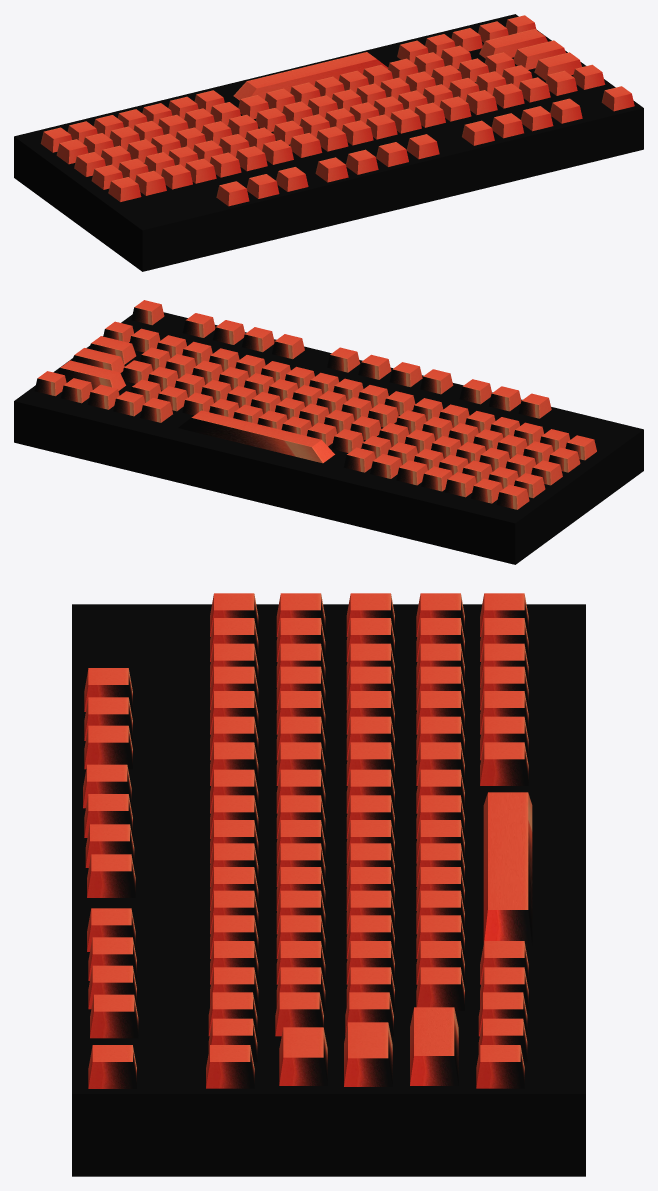
Rendered from Keyboard .fbx.
3 views of the same model, one above another, from view 1: azimuth 30°, elevation 25°; view 2: azimuth 150°, elevation 25°; view 3: azimuth 270°, elevation 25° (orthographic). The views are drawn at different scales.
Visible parts, largest first — view 1: Cube.017, Cube.127, Cube.126, Cube.125, Cube.050, Cube.026, Cube.023, Cube.019, Cube.024, Cube.048, Cube.018, Cube.021 (+86 smaller); view 2: Cube.017, Cube.127, Cube.126, Cube.125, Cube.050, Cube.019, Cube.023, Cube.018, Cube.022, Cube.025, Cube.110, Cube.021 (+86 smaller); view 3: Cube.017, Cube.127, Cube.126, Cube.125, Cube.050, Cube.019, Cube.018, Cube.030, Cube.106, Cube.118, Cube.023, Cube.090 (+86 smaller).
Part boxes in pixels (x1,y1,x2,y2): Cube.017: (14, 14, 643, 271); Cube.127: (233, 52, 388, 100); Cube.126: (479, 29, 547, 58); Cube.125: (513, 40, 565, 69); Cube.050: (534, 52, 581, 80); Cube.026: (315, 157, 348, 182); Cube.023: (406, 134, 439, 159); Cube.019: (550, 98, 582, 123); Cube.024: (376, 142, 408, 166); Cube.048: (108, 177, 141, 201); Cube.018: (601, 86, 634, 111); Cube.021: (491, 113, 523, 138); Cube.017: (14, 312, 643, 564); Cube.127: (178, 410, 334, 463); Cube.126: (57, 360, 125, 390); Cube.125: (72, 348, 124, 372); Cube.050: (89, 336, 136, 364); Cube.019: (182, 313, 215, 337); Cube.023: (327, 347, 360, 372); Cube.018: (131, 300, 164, 325); Cube.022: (272, 334, 304, 359); Cube.025: (389, 362, 422, 387); Cube.110: (140, 398, 172, 422); Cube.021: (242, 327, 274, 352); Cube.017: (72, 604, 585, 1176); Cube.127: (483, 792, 532, 946); Cube.126: (410, 1007, 458, 1085); Cube.125: (344, 1022, 392, 1086); Cube.050: (279, 1027, 327, 1085); Cube.019: (90, 994, 138, 1038); Cube.018: (88, 1045, 136, 1088); Cube.030: (206, 1045, 254, 1088); Cube.106: (476, 1045, 524, 1088); Cube.118: (480, 742, 528, 785); Cube.023: (87, 854, 135, 897); Cube.090: (416, 967, 464, 1010).
Bounding box in the file's own units: 161 × 16.56 × 71.44.
